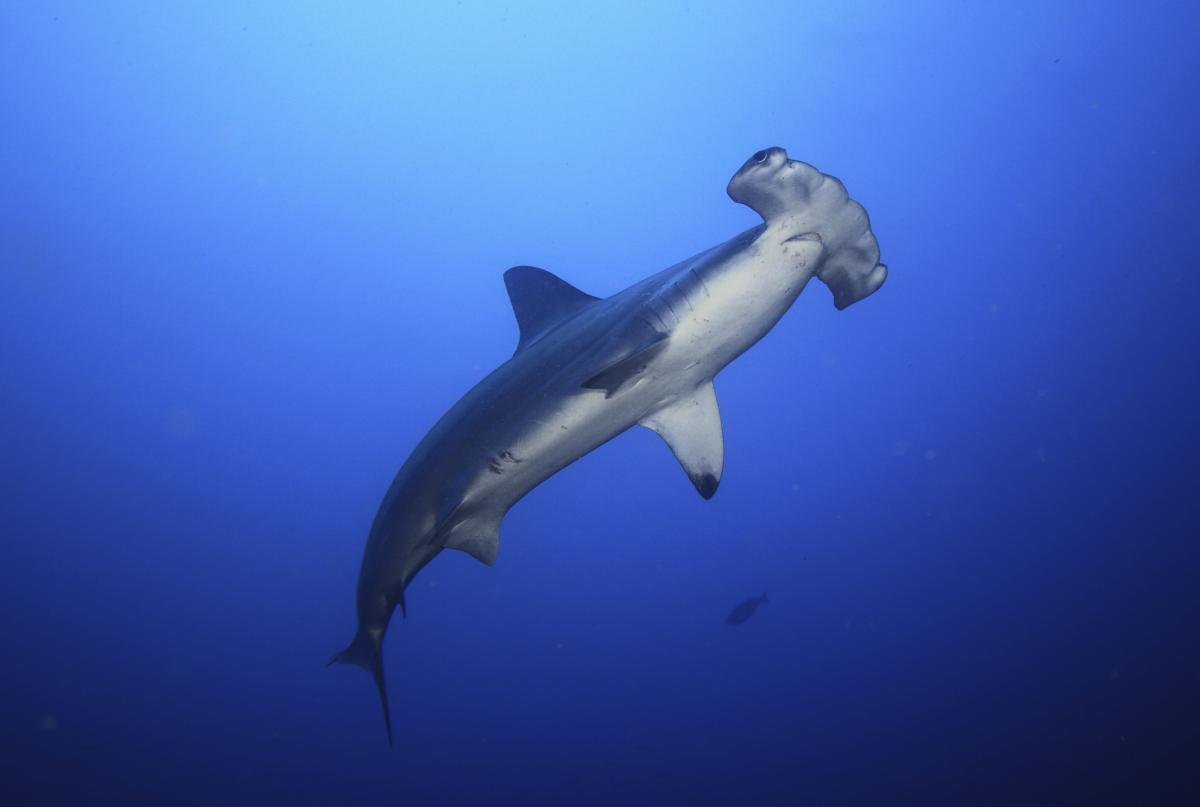Hammer: (256, 88, 932, 762), (302, 274, 533, 462)
